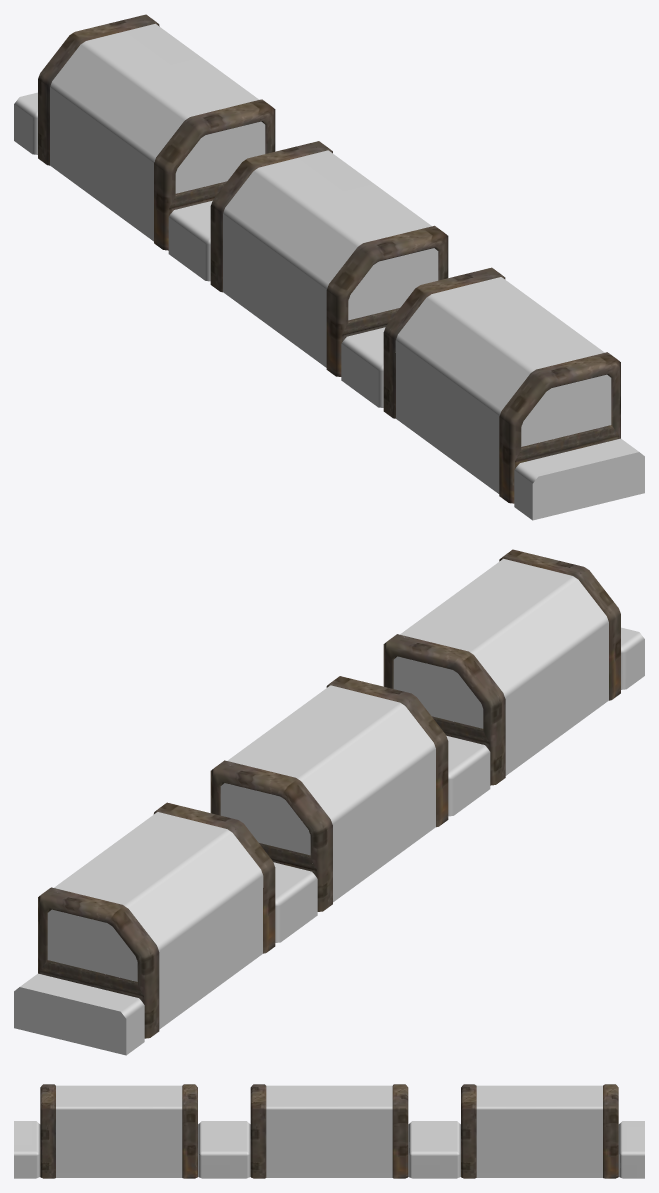
3 renders of one model, top to bottom at view 1: azimuth 30°, elevation 25°; view 2: azimuth 150°, elevation 25°; view 3: azimuth 270°, elevation 25°, orthographic. The views are drawn at different scales.
Parts seen in each view (by area): view 1: SM_Dowdun_Wall_Battlements_8x6_01_LOD0; view 2: SM_Dowdun_Wall_Battlements_8x6_01_LOD0; view 3: SM_Dowdun_Wall_Battlements_8x6_01_LOD0.
Part boxes in pixels (x1,y1,x2,y2): SM_Dowdun_Wall_Battlements_8x6_01_LOD0: (14, 14, 644, 520); SM_Dowdun_Wall_Battlements_8x6_01_LOD0: (14, 549, 644, 1055); SM_Dowdun_Wall_Battlements_8x6_01_LOD0: (14, 1084, 644, 1178).
Bounding box in the file's own units: 1 × 1 × 8.
Materials: 2 (1 with a texture image).
